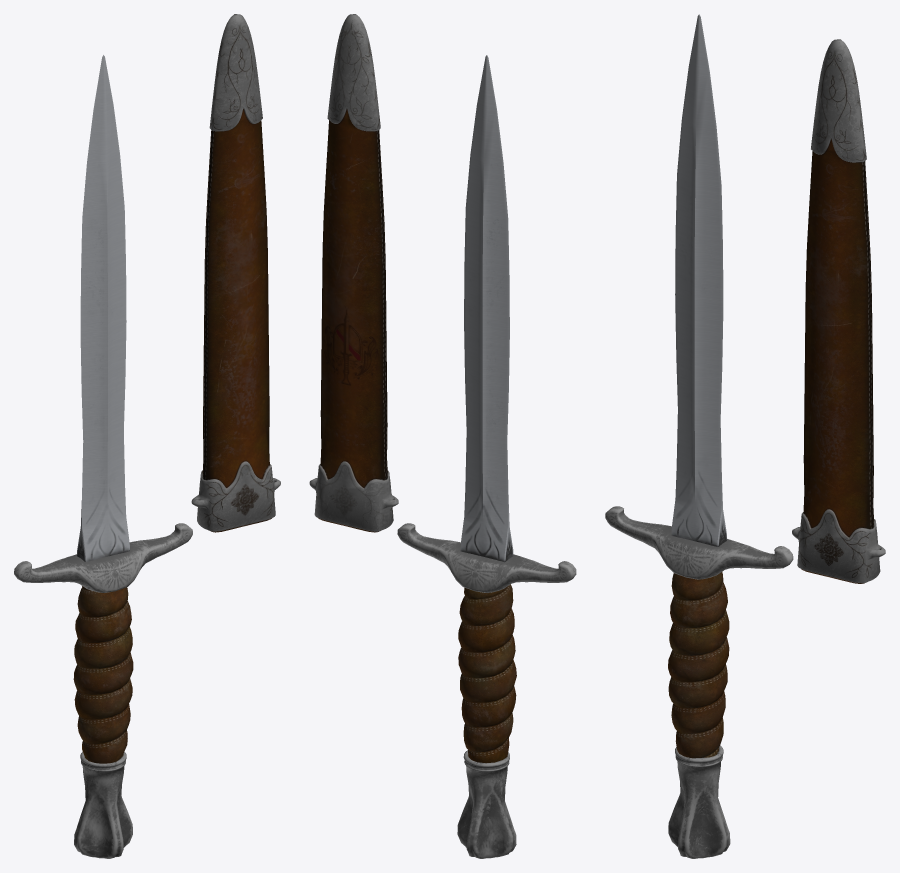
File: ornate_medieval_dagger.glb
3 views of the same model, side by side, from view 1: azimuth 30°, elevation 25°; view 2: azimuth 150°, elevation 25°; view 3: azimuth 330°, elevation 25° (orthographic). The views are drawn at different scales.
Parts seen in each view (by area): view 1: ornate_medieval_dagger, ornate_medieval_dagger_scabbard; view 2: ornate_medieval_dagger, ornate_medieval_dagger_scabbard; view 3: ornate_medieval_dagger, ornate_medieval_dagger_scabbard.
Boxes of the visible parts, box(x1,y1,x2,y2) form: ornate_medieval_dagger: box(14, 55, 192, 858); ornate_medieval_dagger_scabbard: box(191, 14, 280, 532); ornate_medieval_dagger: box(397, 55, 576, 858); ornate_medieval_dagger_scabbard: box(309, 14, 398, 532); ornate_medieval_dagger: box(605, 14, 793, 858); ornate_medieval_dagger_scabbard: box(792, 39, 885, 583).
Bounding box in the file's own units: 0.1201 × 0.3489 × 0.025.
1 material, 1 textured.
